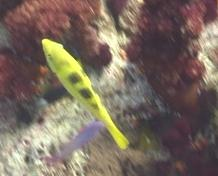Scaridae -Parrotfishes-: (37, 33, 130, 149)
